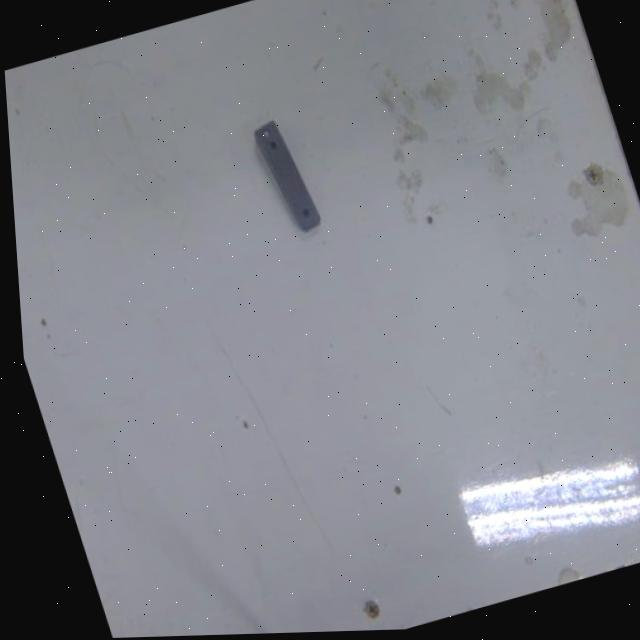grey: (247, 111, 326, 242)
head: (299, 205, 312, 219)
